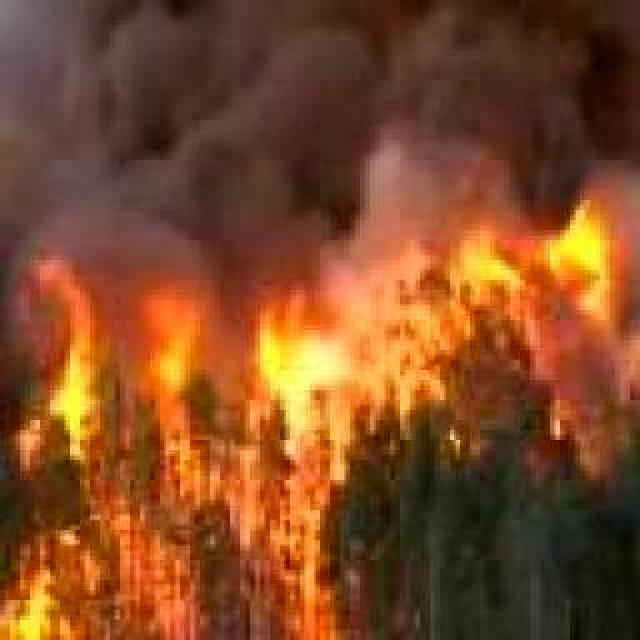fire: (0, 228, 328, 640), (426, 158, 638, 414)
